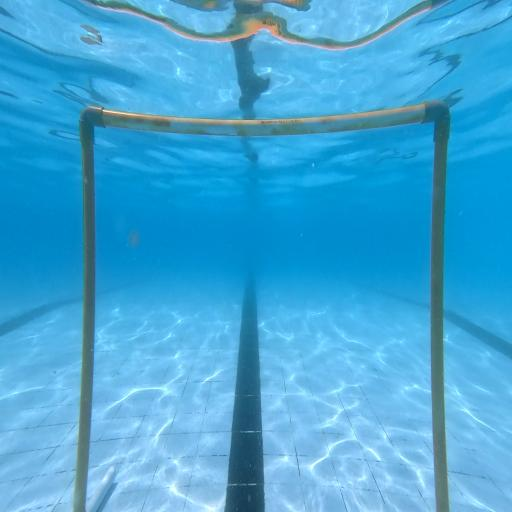gate: (72, 101, 450, 512)
